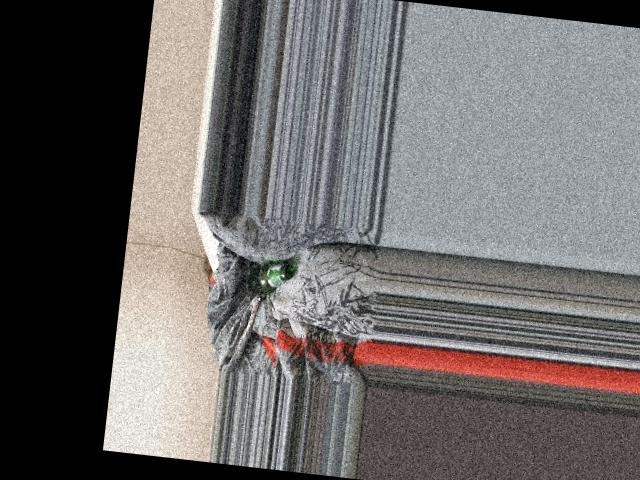beer: (246, 258, 295, 296)
